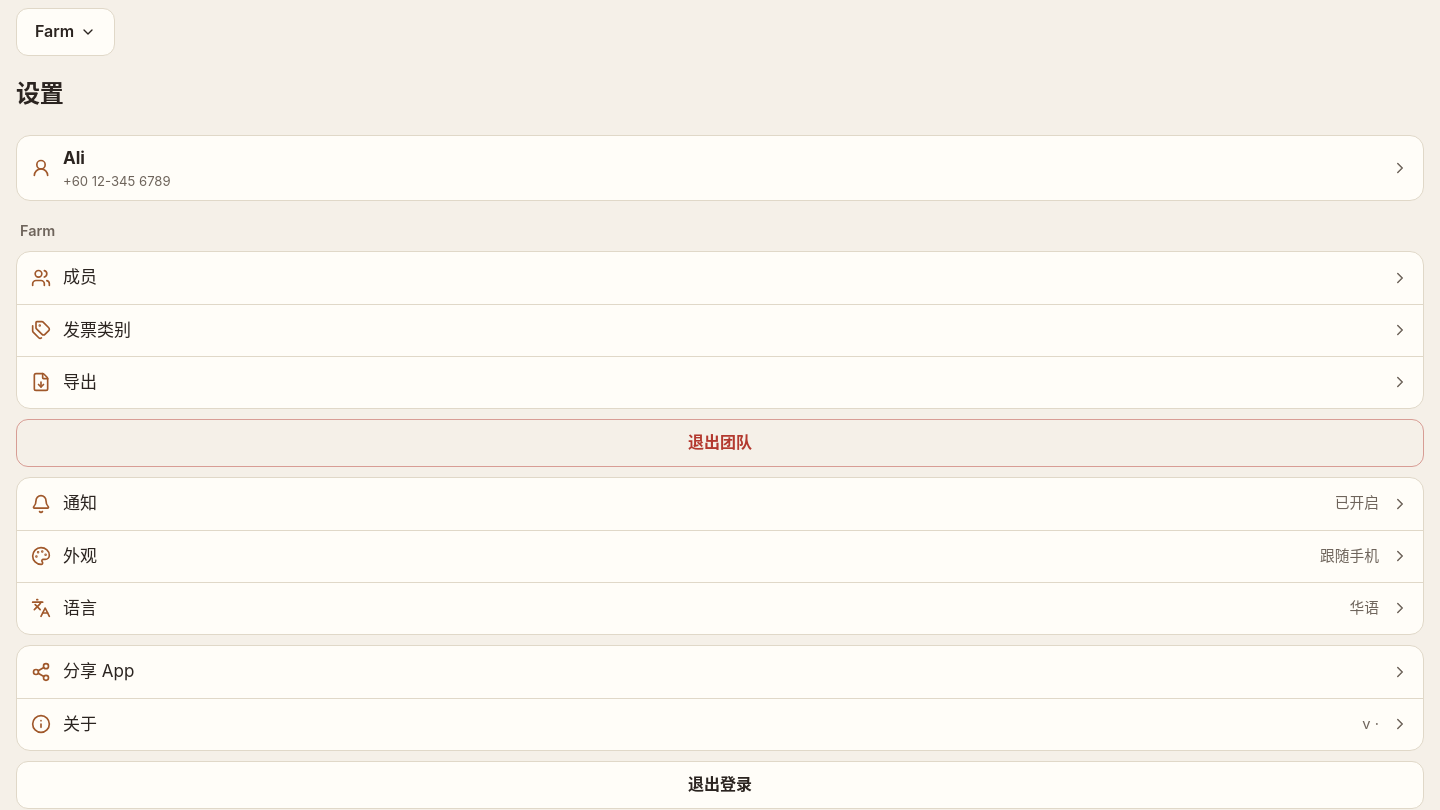
Scenario: SettingsPage › refuses with the translated last-admin message
Click the button "退出团队": [720, 443] box [16,419,1424,467]
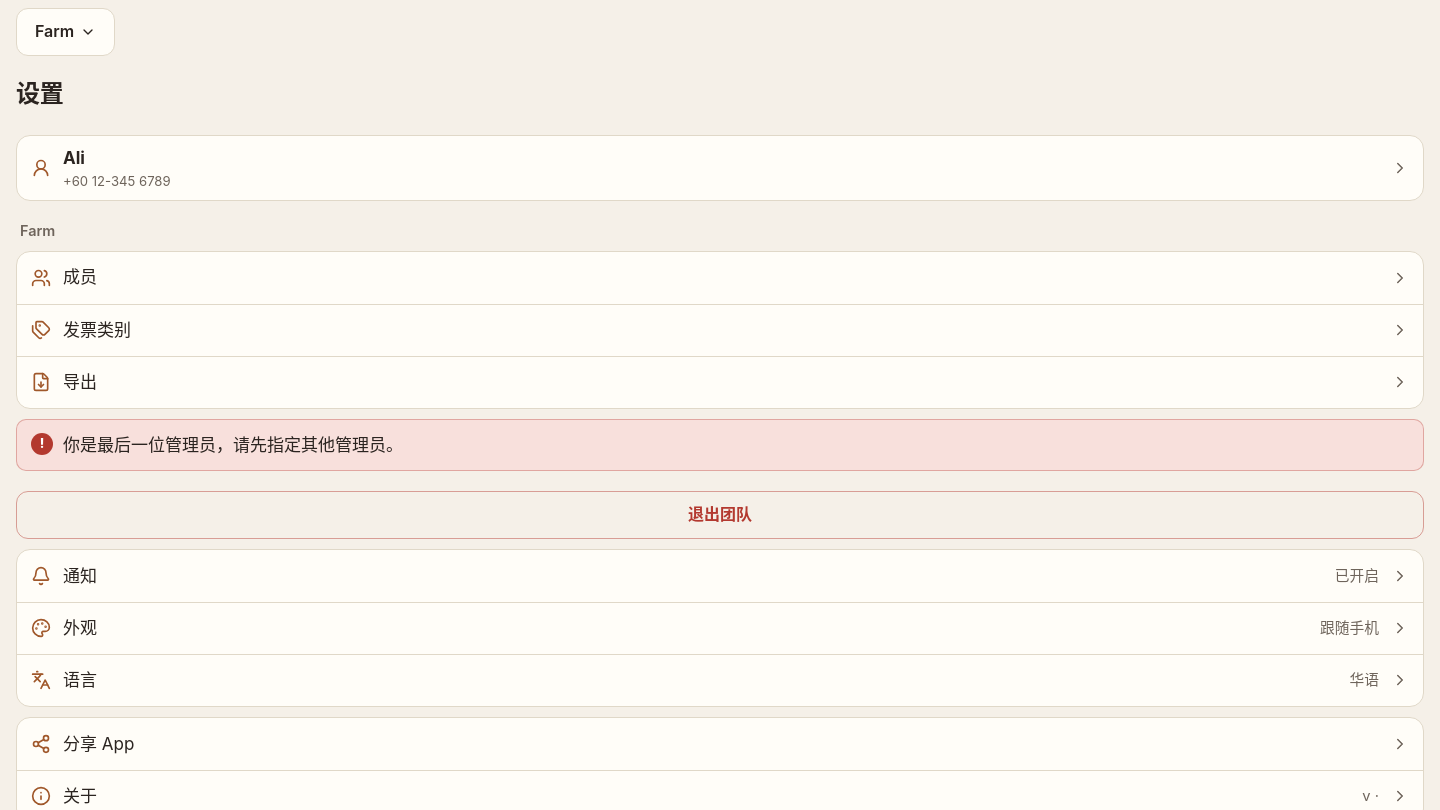
Now the text "你是最后一位管理员，请先指定其他管理员。" is shown, box [16,419,1424,471]
